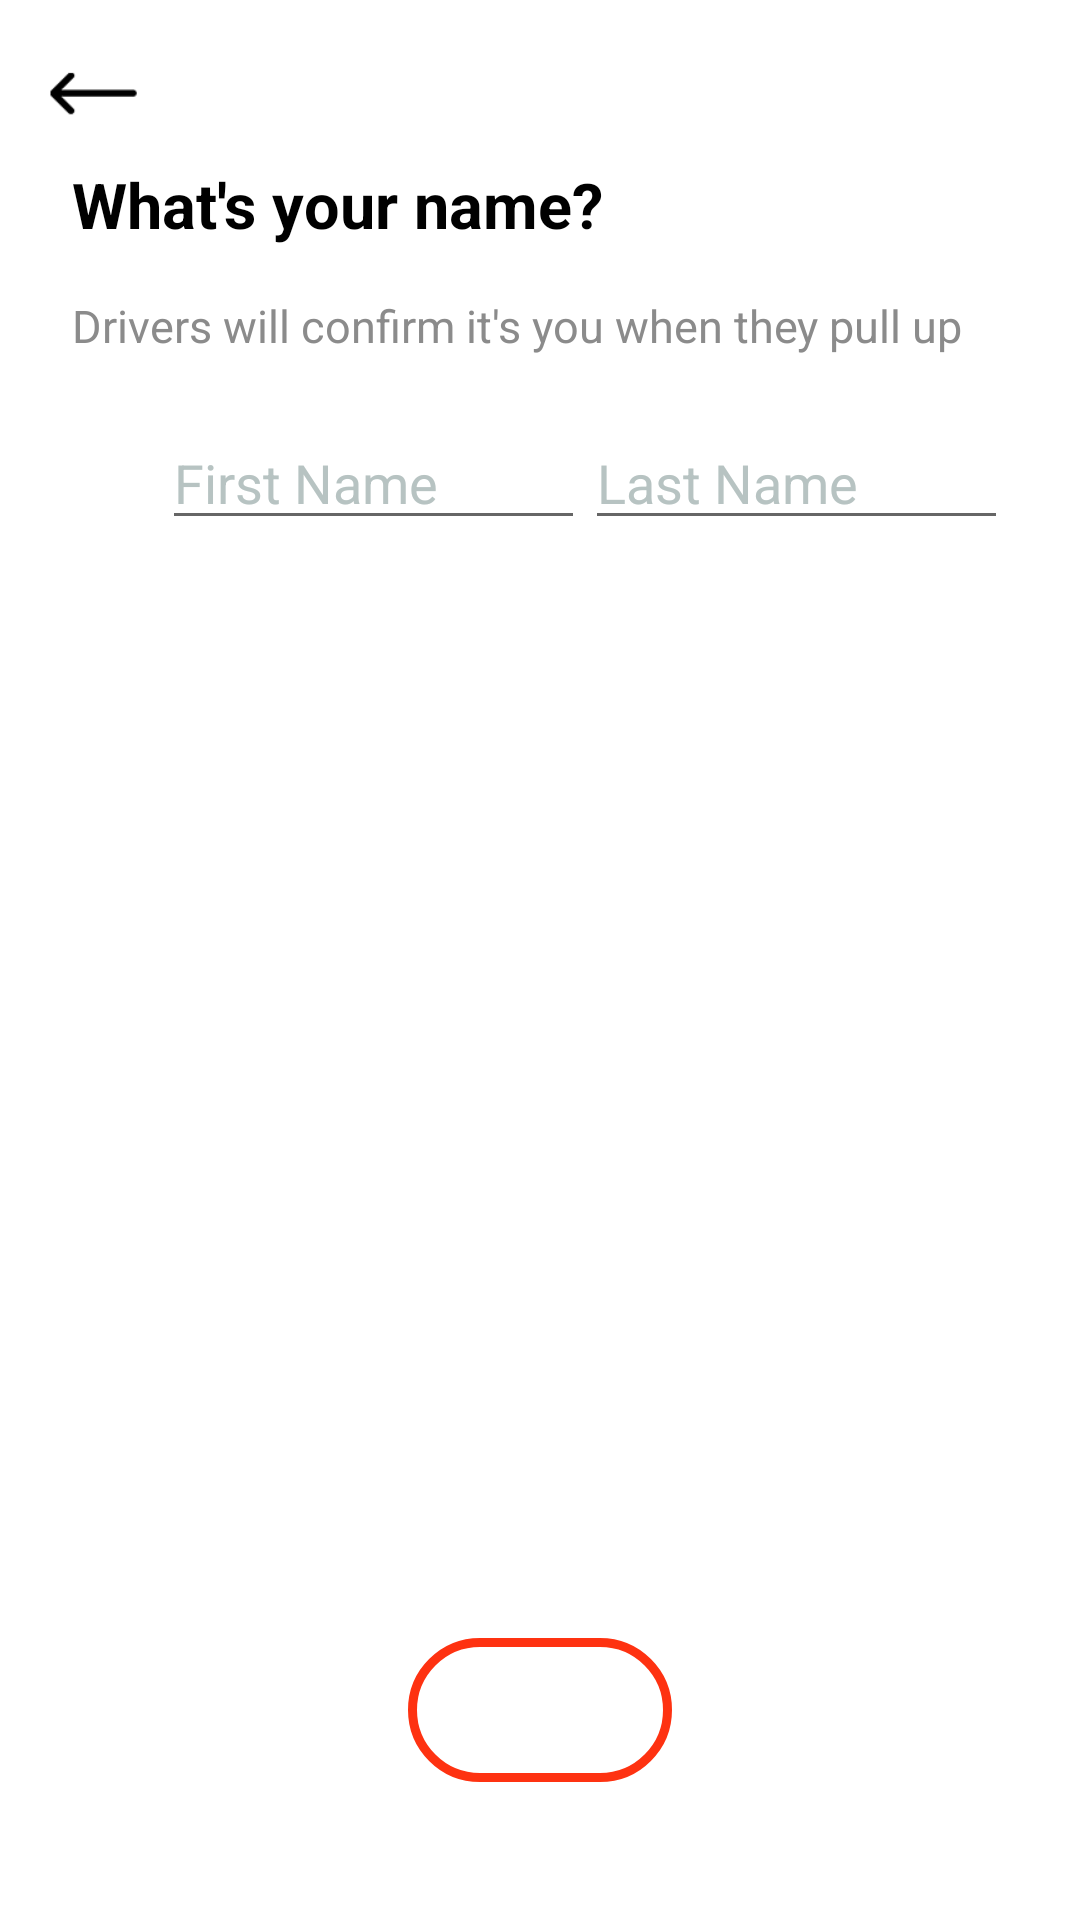

Icons on this 1080px x 1920px Android screen, each with its box as [left=x1, top=y1, right=x2, bottom=y2]:
backarrow: [left=50, top=72, right=137, bottom=115]
